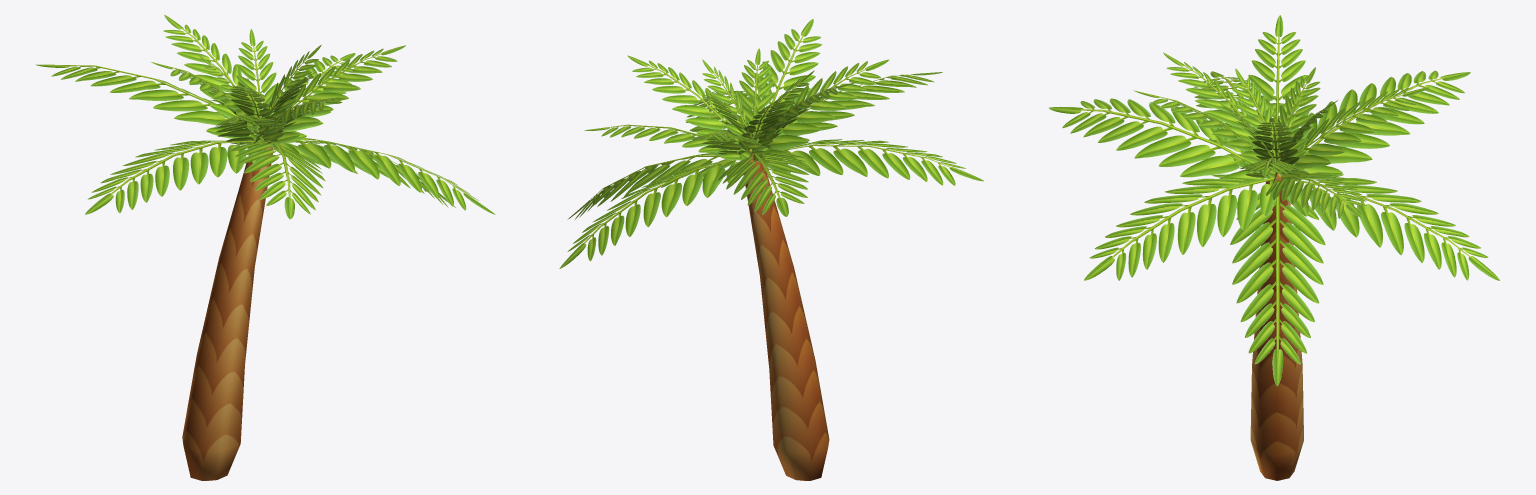
The model's file is Palm_01.FBX.
3 renders of one model, left to right at view 1: azimuth 30°, elevation 25°; view 2: azimuth 150°, elevation 25°; view 3: azimuth 270°, elevation 25°, orthographic. The views are drawn at different scales.
Parts seen in each view (by area): view 1: Leaf, Trunk; view 2: Leaf, Trunk; view 3: Leaf, Trunk.
Boxes of the visible parts, x1,y1,x2,y2 form: Leaf: [35, 14, 495, 219]; Trunk: [182, 142, 272, 480]; Leaf: [559, 19, 983, 268]; Trunk: [743, 151, 829, 480]; Leaf: [1049, 15, 1500, 385]; Trunk: [1250, 172, 1303, 480].
Bounding box in the file's own units: 401 × 397 × 409.
Materials: 1 (1 with a texture image).
